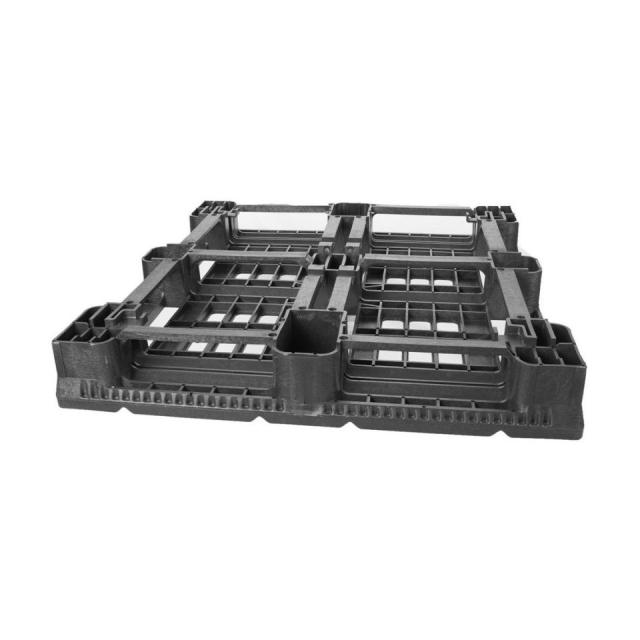non-igps: (47, 191, 595, 451)
